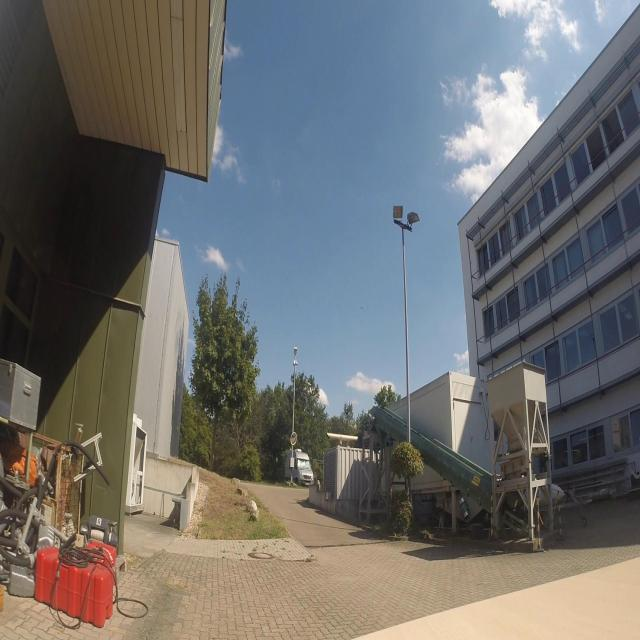drone: (360, 302, 366, 310)
